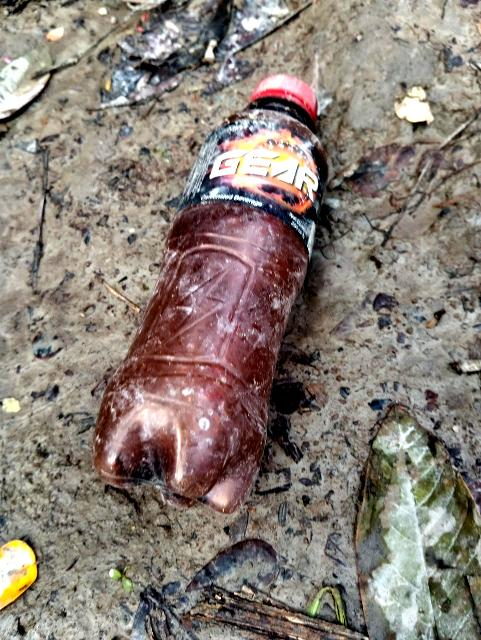bottle: (83, 82, 358, 513)
